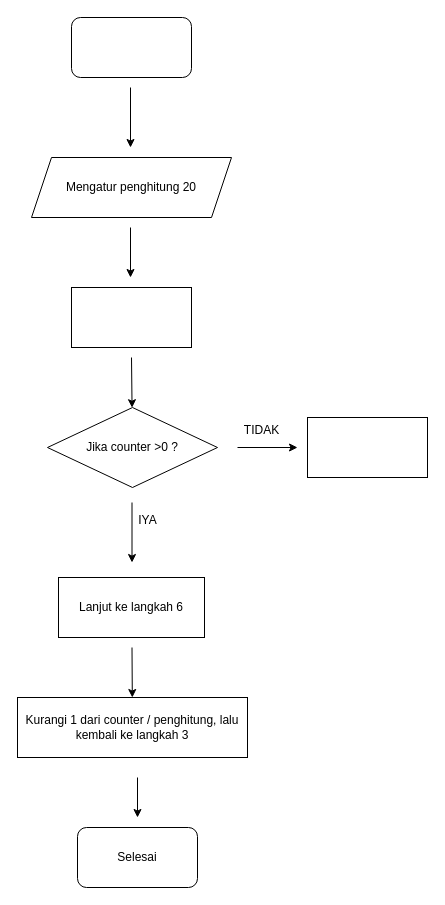
The diagram is 445 pixels wide and 905 high, and some of its shapes have lost their labels. The shapes that lost their labels are listed below. From the top down, each one's centre as x and y in pixels, then its label:
(131,47): Mulai
(131,317): Menunjukan nilai penghitung
(367,447): Lanjut ke langkah 5
